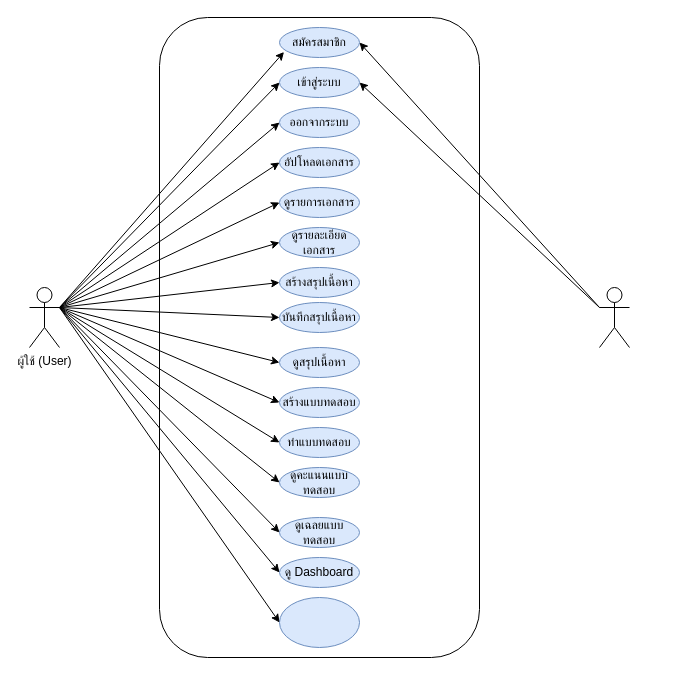
Some shapes in this 698 by 675 pixel diagram are drawn without their labels. Here are the shapes that lost their labels. From the top down, the centre of each, then its label:
[614,317]: ผู้ใช้ที่ยังไม่เข้าสู่ระบบ (Guest)
[319,622]: เลือกบันทึกที่ต้องการแดงผลในDashboard
